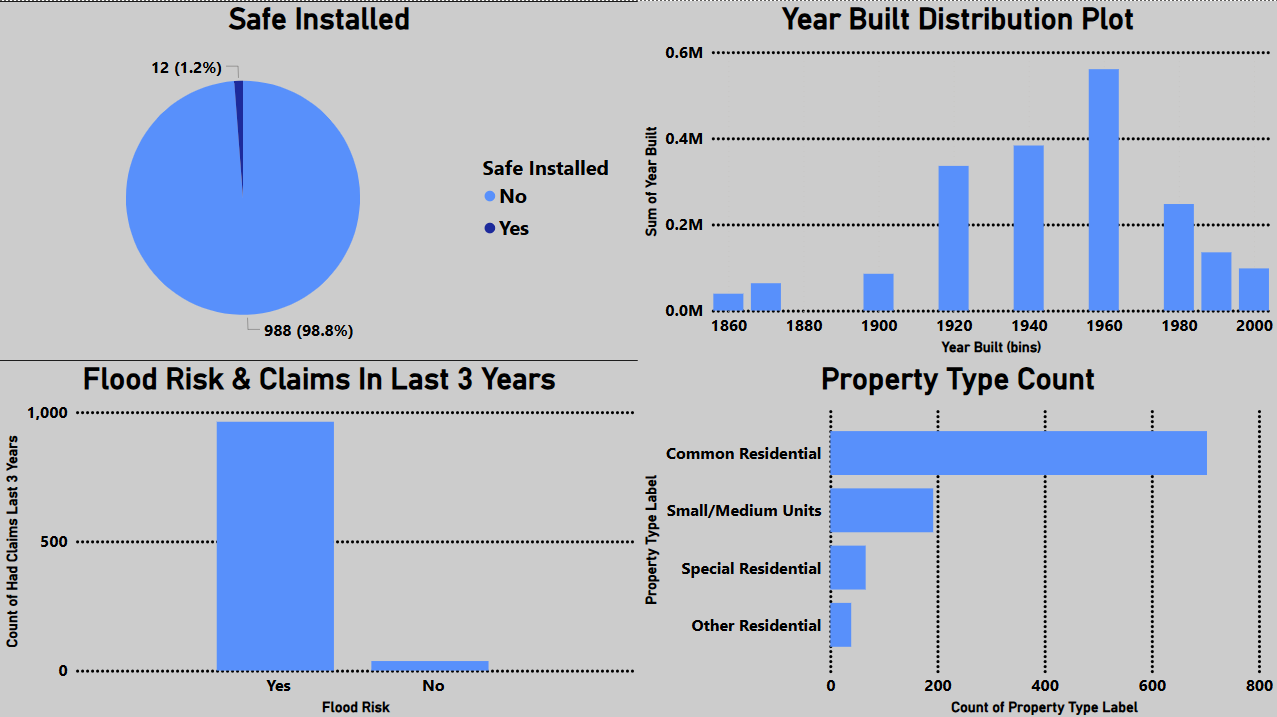

This screenshot's page, from the dashboard's own definition file:
{"tool":"powerbi","page":{"name":"PROPERTY PROFILE & SECURITY","canvas":[1280,720],"ordinal":3},"visuals":[{"type":"pieChart","title":"Safe Installed","fields":{"Category":["sql_cleaned_home_insurance.Safe Installed"],"Y":["CountNonNull(sql_cleaned_home_insurance.Safe Installed)"]},"box":[0,0,640.5,359.7],"z":0},{"type":"clusteredColumnChart","title":"Year Built Distribution Plot","fields":{"Y":["Sum(sql_cleaned_home_insurance.Year Built)"],"Category":["sql_cleaned_home_insurance.Year Built (bins)"]},"box":[638.8,0,640.5,359.7],"z":1000},{"type":"clusteredColumnChart","title":"Flood Risk & Claims In Last 3 Years","fields":{"Category":["sql_cleaned_home_insurance.Flood Risk"],"Y":["CountNonNull(sql_cleaned_home_insurance.Had Claims Last 3 Years)"]},"box":[0,359.7,640.5,359.7],"z":2000},{"type":"barChart","title":"Property Type Count","fields":{"Category":["sql_cleaned_home_insurance.Property Type Label"],"Y":["CountNonNull(sql_cleaned_home_insurance.Property Type Label)"]},"box":[638.8,359.7,640.5,359.7],"z":3001}]}

Visuals, with their boxes in screenshot pixels (x1, y1, x2, y2), scaled from the page's 1280x720 canvas onto the 1277x717 screenshot:
"Safe Installed" pieChart: 0 0 639 358
"Year Built Distribution Plot" clusteredColumnChart: 637 0 1276 358
"Flood Risk & Claims In Last 3 Years" clusteredColumnChart: 0 358 639 716
"Property Type Count" barChart: 637 358 1276 716
